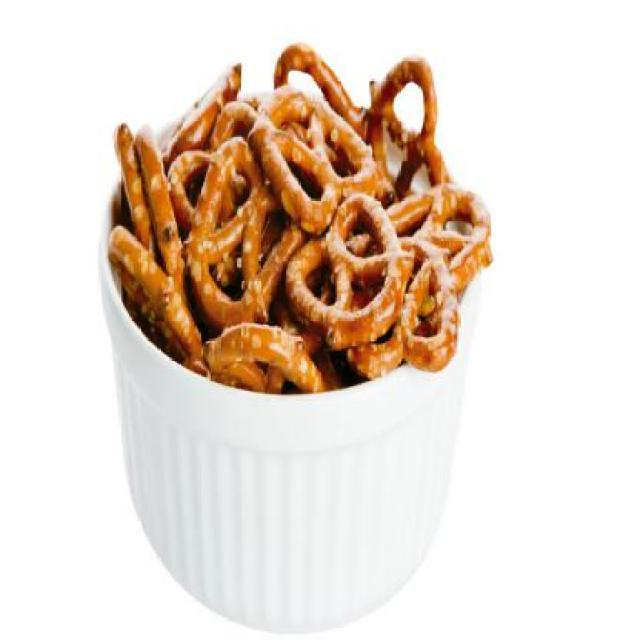Salatini packaged: (107, 41, 493, 392)
